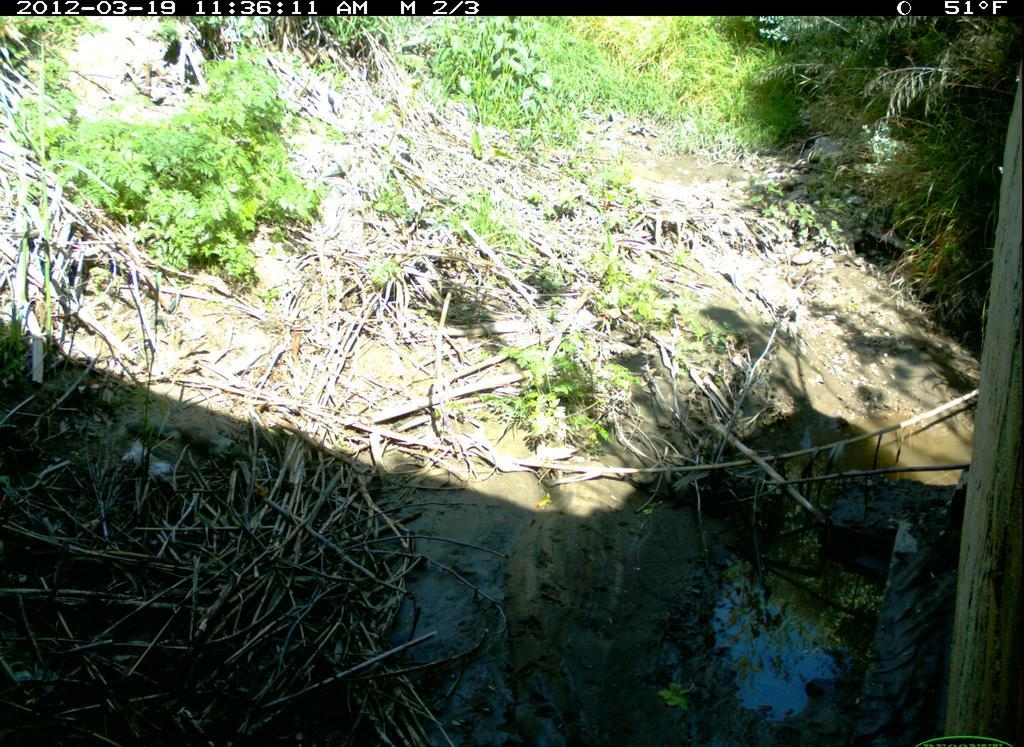squirrel: (125, 408, 250, 472)
